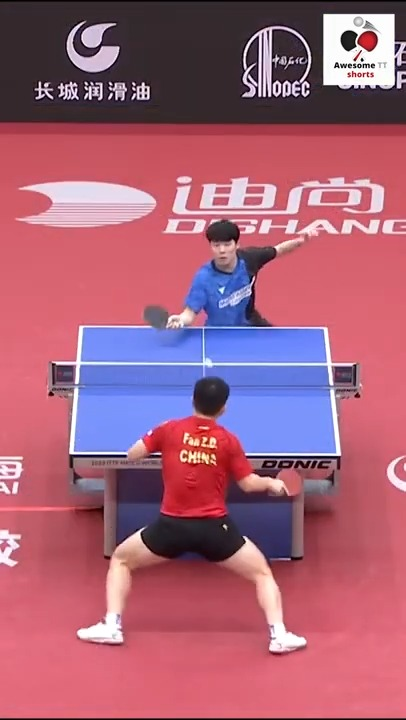Ball: (206, 357, 218, 370)
